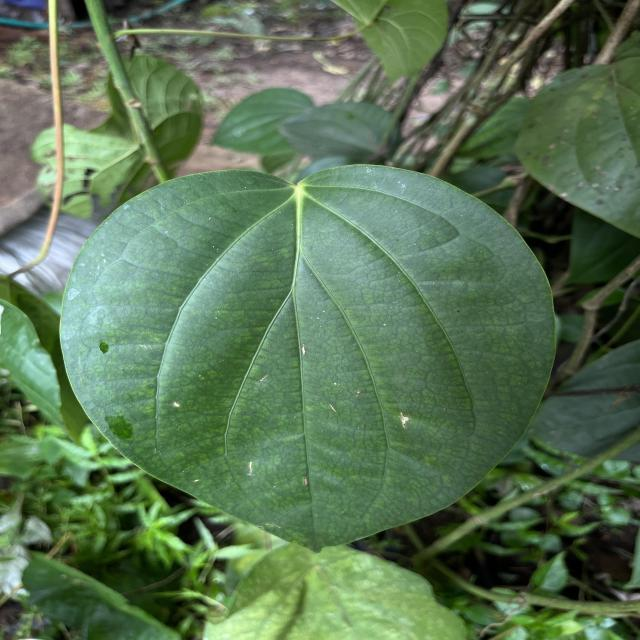Piper nigrum: (58, 160, 558, 556)
